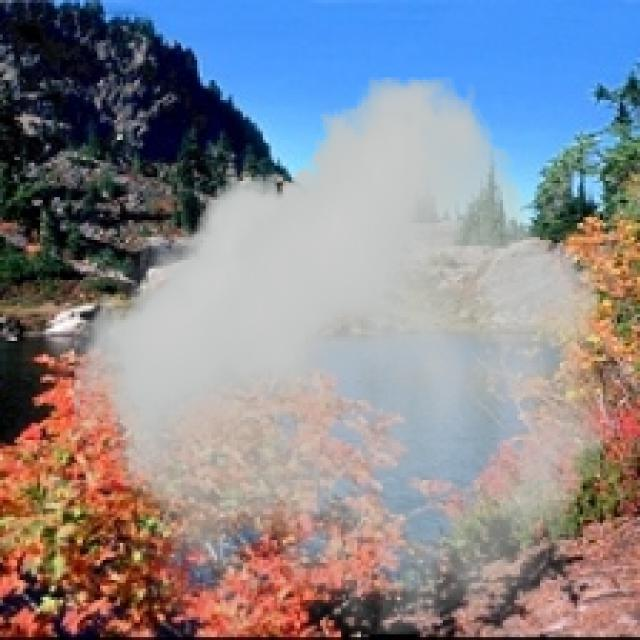smoke: (74, 77, 609, 634)
